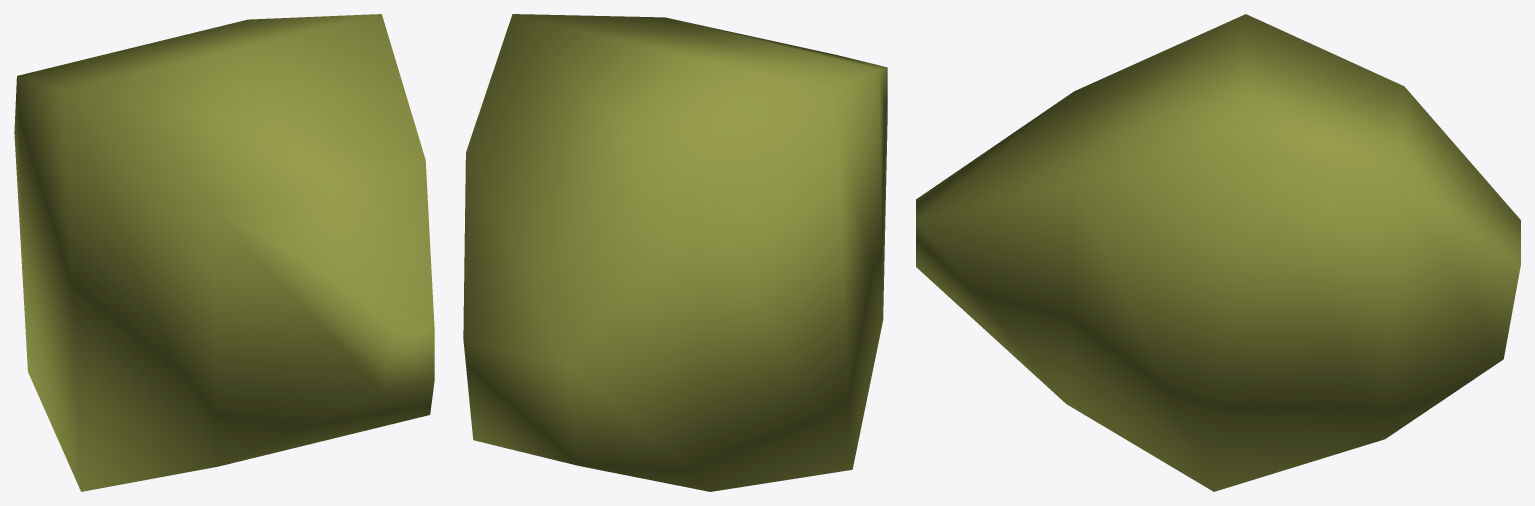
The model's file is LeafProjectile.glb.
3 renders of one model, left to right at view 1: azimuth 30°, elevation 25°; view 2: azimuth 150°, elevation 25°; view 3: azimuth 270°, elevation 25°, orthographic. The views are drawn at different scales.
Visible parts, largest first — view 1: LeafProjectile; view 2: LeafProjectile; view 3: LeafProjectile.
Part boxes in pixels (x1,y1,x2,y2): LeafProjectile: [14, 14, 434, 491]; LeafProjectile: [463, 14, 887, 491]; LeafProjectile: [916, 14, 1520, 491].
Bounding box in the file's own units: 0.2475 × 0.2871 × 0.4616.
